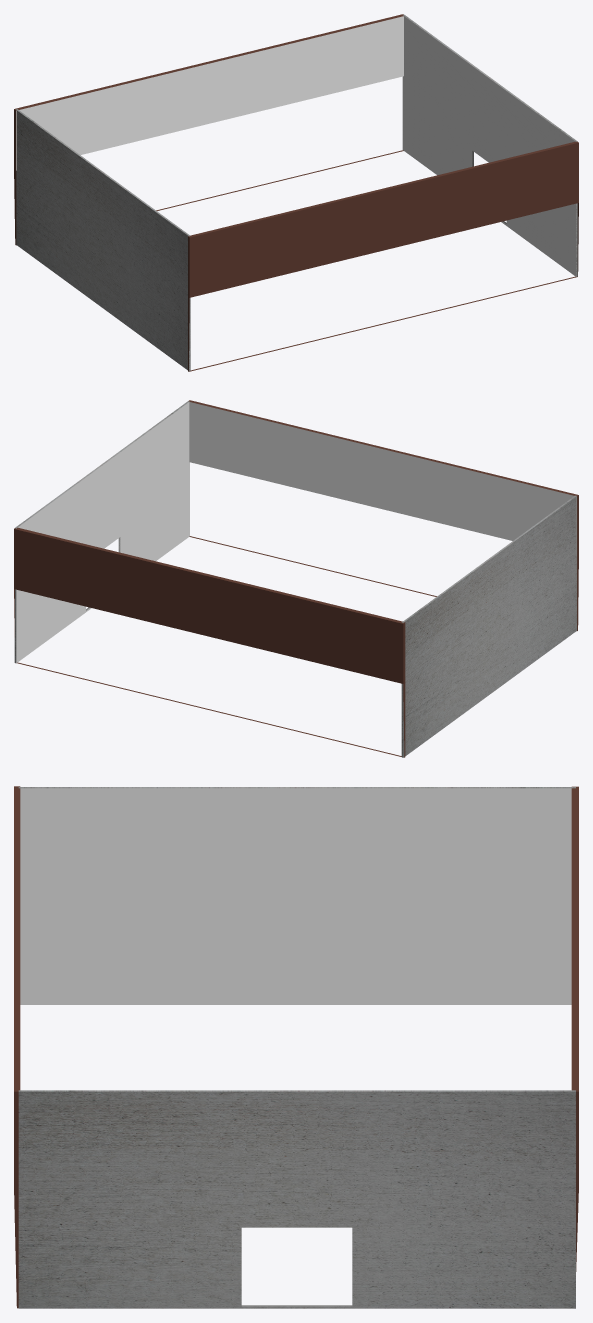
The model's file is muros.obj.
3 renders of one model, top to bottom at view 1: azimuth 30°, elevation 25°; view 2: azimuth 150°, elevation 25°; view 3: azimuth 270°, elevation 25°, orthographic. The views are drawn at different scales.
Parts seen in each view (by area): view 1: polySurface51 polySurface27, polySurface27 polySurface44, pasted__polySurface51 pasted__polySurface27 group58, polySurface2205; view 2: pasted__polySurface51 pasted__polySurface27 group58, polySurface27 polySurface44, polySurface51 polySurface27, polySurface2205; view 3: polySurface27 polySurface44, polySurface2205, polySurface51 polySurface27, pasted__polySurface51 pasted__polySurface27 group58.
Part boxes in pixels (x1=…): polySurface51 polySurface27: x1=188, y1=141, x2=578, y2=371; polySurface27 polySurface44: x1=16, y1=109, x2=190, y2=371; pasted__polySurface51 pasted__polySurface27 group58: x1=14, y1=14, x2=403, y2=245; polySurface2205: x1=402, y1=14, x2=577, y2=276; pasted__polySurface51 pasted__polySurface27 group58: x1=14, y1=527, x2=405, y2=757; polySurface27 polySurface44: x1=401, y1=495, x2=576, y2=757; polySurface51 polySurface27: x1=189, y1=400, x2=578, y2=630; polySurface2205: x1=14, y1=401, x2=189, y2=663; polySurface27 polySurface44: x1=18, y1=787, x2=575, y2=1004; polySurface2205: x1=18, y1=1090, x2=575, y2=1308; polySurface51 polySurface27: x1=14, y1=786, x2=20, y2=1308; pasted__polySurface51 pasted__polySurface27 group58: x1=571, y1=786, x2=578, y2=1271.
Bounding box in the file's own units: 68.59 × 22.72 × 53.63.
Materials: 3 (3 with a texture image).
